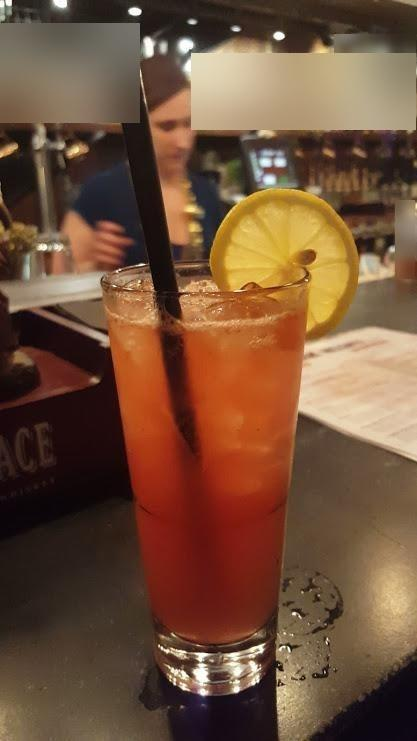glass-normal: (99, 260, 312, 698)
